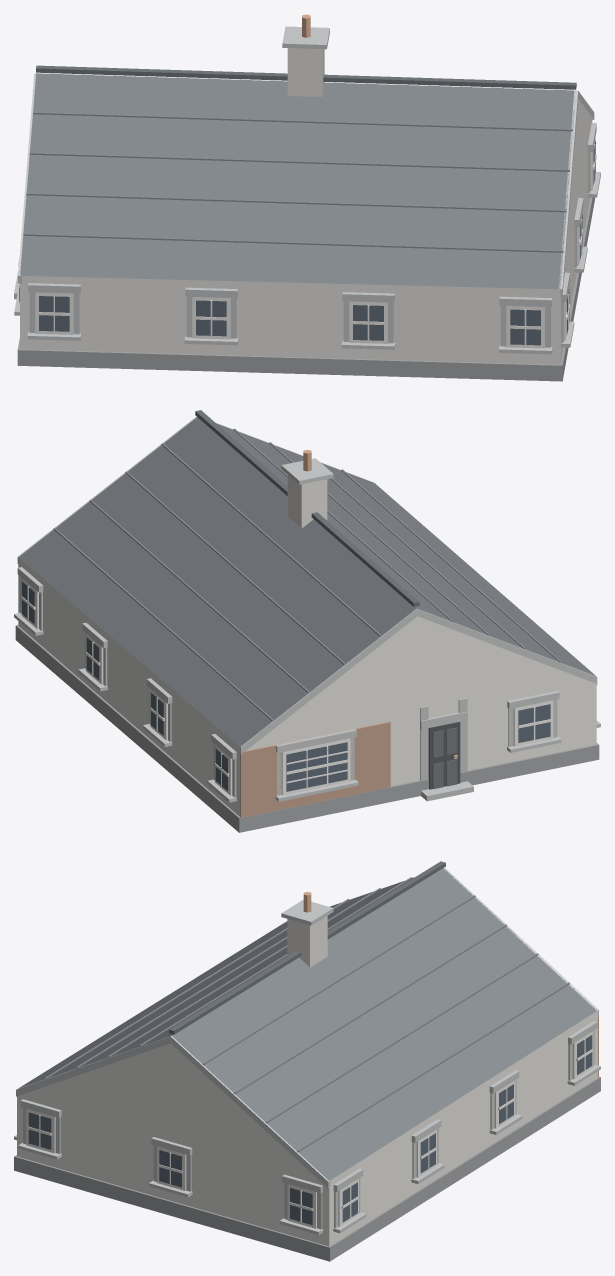
3 views of the same model, one above another, from view 1: azimuth 30°, elevation 25°; view 2: azimuth 150°, elevation 25°; view 3: azimuth 270°, elevation 25° (orthographic). The views are drawn at different scales.
Visible parts, largest first — view 1: slate, harl, plinth, stone_band, slate_lt, slate_dk, frame, chim_render, window_glass_007, window_glass_009, window_glass_008, window_glass_010; view 2: slate, harl, stone_band, plinth, slate_lt, ss_red, frame, slate_dk, window_glass_002, chim_render, door_dark_p, door_dark (+1 smaller); view 3: slate, harl, stone_band, plinth, slate_lt, frame, slate_dk, chim_render, window_glass_011, window_glass_012, window_glass_013.
Boxes of the visible parts, x1,y1,x2,y2 form: slate: (20,73,575,289); harl: (20,101,592,364); plinth: (17,197,594,381); stone_band: (14,26,600,354); slate_lt: (23,112,572,252); slate_dk: (36,65,576,89); frame: (18,141,596,348); chim_render: (287,48,324,96); window_glass_007: (39,296,69,331); window_glass_009: (353,305,383,340); window_glass_008: (196,300,226,336); window_glass_010: (510,309,540,345); slate: (18,417,595,746); harl: (18,558,596,816); stone_band: (14,416,600,802); plinth: (15,625,599,832); slate_lt: (53,428,561,721); ss_red: (240,721,390,817); frame: (21,578,553,795); slate_dk: (195,410,419,606); window_glass_002: (286,742,347,791); chim_render: (287,475,327,528); door_dark_p: (432,727,457,789); door_dark: (428,721,460,789); slate: (18,868,596,1180); harl: (17,1010,597,1246); stone_band: (14,867,600,1234); plinth: (14,1076,600,1261); slate_lt: (45,877,569,1152); frame: (26,1031,593,1228); slate_dk: (169,861,445,1034); chim_render: (287,916,327,967); window_glass_011: (28,1112,51,1149); window_glass_012: (159,1150,181,1187); window_glass_013: (290,1188,312,1225).
Size of the model in its own units: 18.05 by 7.63 by 17.11.
